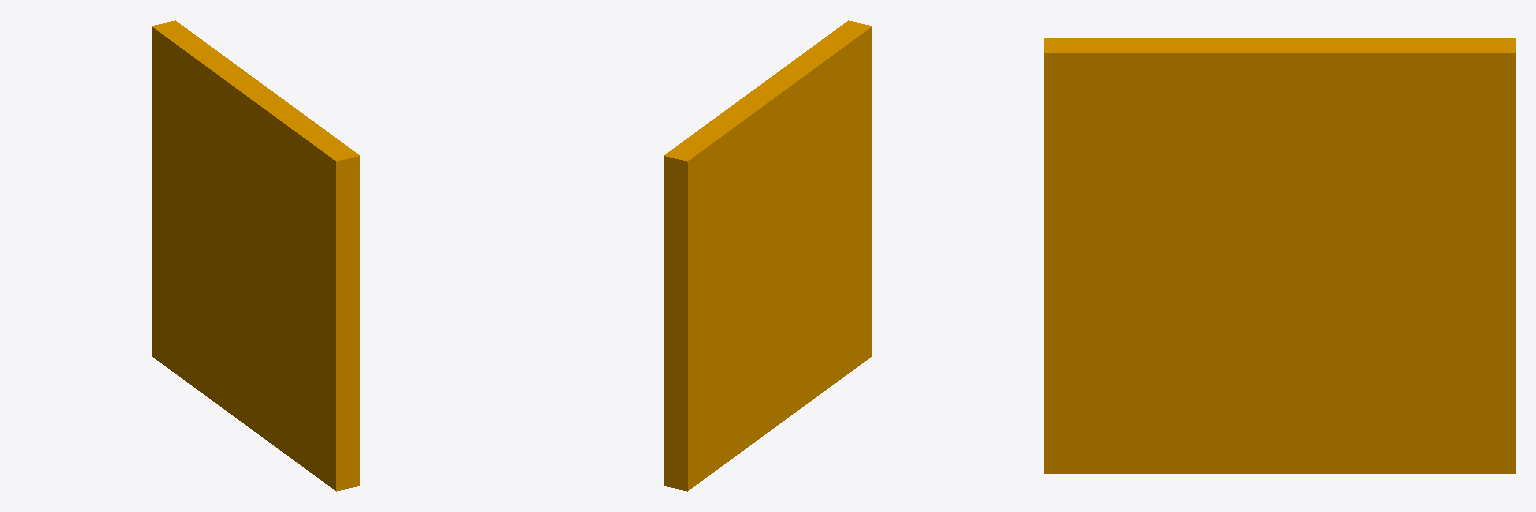
The robot description file, URDF, robot "DockingStation":
<?xml version="1.0"?>
<robot name="DockingStation">
    <link name="base_link">
        <visual>
            <geometry>
                <mesh filename="dsleft.stl" scale="1 1 1"/>
            </geometry>
            <material name="blue"/>
        </visual>
        <collision>
            <geometry>
                <mesh filename="dsleft.stl" scale="1 1 1"/>
            </geometry>
        </collision>
    </link>
</robot>

--- What the picture shows (computed from the rendered views, not written in the file) ---
Views: 3 orthographic renders of the robot side by side, from view 1: azimuth 30°, elevation 25°; view 2: azimuth 150°, elevation 25°; view 3: azimuth 270°, elevation 25°.
Model DockingStation with 1 links and 0 joints (none), rooted at base_link, posed every joint at zero.
Links seen in each view (by area): view 1: base_link; view 2: base_link; view 3: base_link.
Link boxes in pixels (x1,y1,x2,y2): base_link: (152, 20, 359, 491); base_link: (664, 20, 871, 491); base_link: (1044, 38, 1515, 473).
Bounding box of the posed robot: 0.0381 × 0.508 × 0.5 m (x, y, z).
1 mesh visuals loaded from 1 distinct referenced files (1 binary STL).